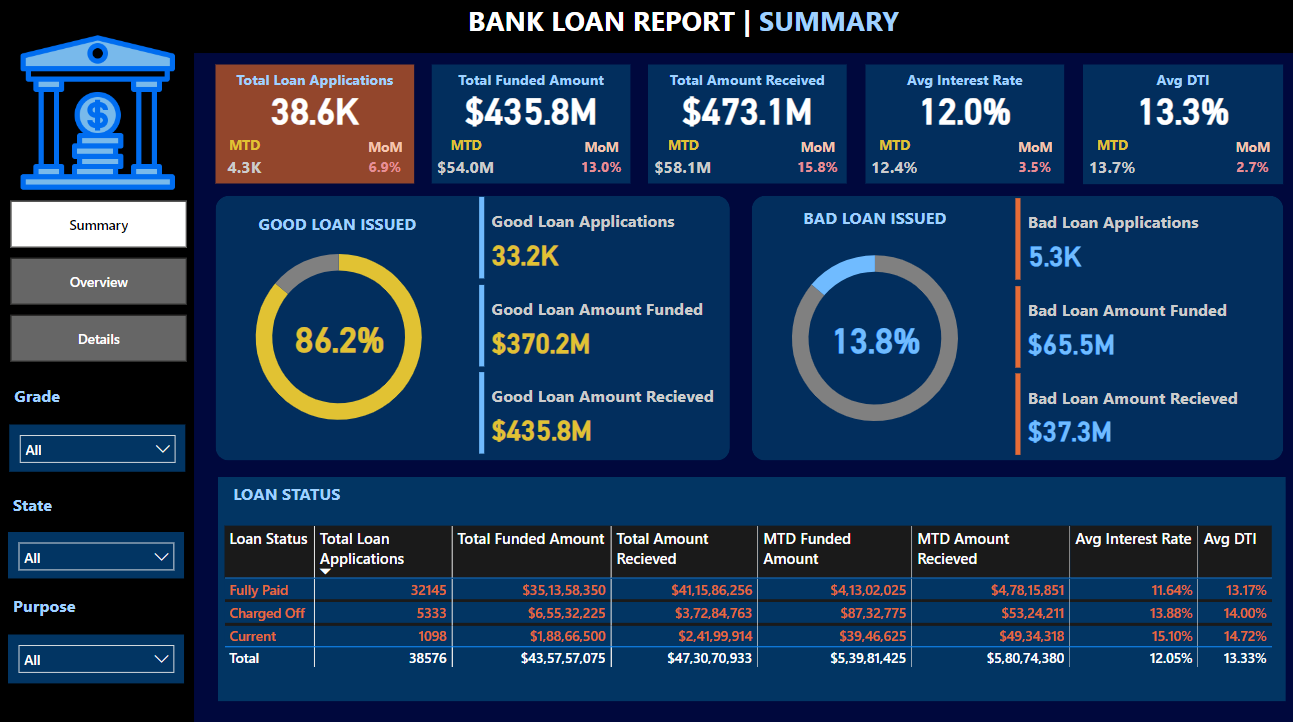

The dashboard page shown, as its layout file describes it:
{"tool":"powerbi","page":{"name":"Summary","canvas":[1280,720],"ordinal":0},"visuals":[{"type":"shape","box":[1.2,54,191.4,666.3],"z":0},{"type":"shape","box":[1065.4,66,196.4,117.5],"z":0,"group":"g6"},{"type":"shape","box":[214,66.1,195,117],"z":0,"group":"g1"},{"type":"shape","box":[426.3,66.1,195,117],"z":0,"group":"g2"},{"type":"shape","box":[638.5,66.1,195,117],"z":0,"group":"g3"},{"type":"shape","box":[851.8,66.1,195,117],"z":0,"group":"g4"},{"type":"card","fields":{"Values":["financial_loan.Total_Loan_Applications"]},"box":[214,82.1,195,55],"z":1000,"group":"g1"},{"type":"card","fields":{"Values":["financial_loan.Total Funded Amount"]},"box":[426.3,82.1,195,55],"z":1000,"group":"g2"},{"type":"card","fields":{"Values":["financial_loan.Total Amount Recieved"]},"box":[638.5,82.1,195,55],"z":1000,"group":"g3"},{"type":"card","fields":{"Values":["financial_loan.Avg Interest Rate"]},"box":[851.8,82.1,195,55],"z":1000,"group":"g4"},{"type":"card","fields":{"Values":["financial_loan.Avg DTI"]},"box":[1065.4,82.1,196.4,55.2],"z":1000,"group":"g6"},{"type":"donutChart","fields":{"Category":["financial_loan.Good Vs Bad Loan"],"Y":["financial_loan.Total_Loan_Applications"]},"box":[213.7,227.4,242.2,213.7],"z":1000,"group":"g5"},{"type":"donutChart","fields":{"Category":["financial_loan.Good Vs Bad Loan"],"Y":["financial_loan.Total_Loan_Applications"]},"box":[740.4,228.4,242.2,213.7],"z":1000,"group":"g8"},{"type":"shape","box":[216,471.2,1047.9,219.6],"z":1000},{"type":"textbox","box":[1065.4,66,196.4,32.1],"z":2000,"group":"g6"},{"type":"textbox","box":[214,66.1,195,32],"z":2000,"group":"g1"},{"type":"textbox","box":[426.3,66.1,195,32],"z":2000,"group":"g2"},{"type":"textbox","box":[638.5,66.1,195,32],"z":2000,"group":"g3"},{"type":"textbox","box":[851.8,66.1,195,32],"z":2000,"group":"g4"},{"type":"shape","box":[213.7,195,505.1,259.9],"z":2000},{"type":"shape","box":[0,0,1280,55],"z":3000},{"type":"card","title":"MTD","fields":{"Values":["financial_loan.MTD_Total_Loan_Applications"]},"box":[214,136.1,57,47],"z":3000,"group":"g1"},{"type":"card","title":"MTD","fields":{"Values":["financial_loan.MTD_Funded_Amount"]},"box":[426.3,136.1,67,47],"z":3000,"group":"g2"},{"type":"card","title":"MTD","fields":{"Values":["financial_loan.MTD_Amount_Recieved"]},"box":[638.5,136.1,69,47],"z":3000,"group":"g3"},{"type":"card","title":"MTD","fields":{"Values":["financial_loan.MTD Avg Rate"]},"box":[851.8,136.1,57,47],"z":3000,"group":"g4"},{"type":"card","title":"MTD","fields":{"Values":["financial_loan.MTD Avg DTI"]},"box":[1065.4,136.3,57.4,47.2],"z":3000,"group":"g6"},{"type":"card","fields":{"Values":["financial_loan.Good Loan %"]},"box":[270.3,307,131.1,54.8],"z":3000,"group":"g5"},{"type":"card","fields":{"Values":["financial_loan.Bad Loan %"]},"box":[797,308,131.1,54.8],"z":3000,"group":"g8"},{"type":"textbox","box":[456,0,568,55],"z":4000},{"type":"card","title":"MoM","fields":{"Values":["financial_loan.MoM_Loan_Applications"]},"box":[351,137.1,58,46],"z":4000,"group":"g1"},{"type":"card","title":"MoM","fields":{"Values":["financial_loan.MoM_Funded_Amount"]},"box":[563.3,137.1,58,46],"z":4000,"group":"g2"},{"type":"card","title":"MoM","fields":{"Values":["financial_loan.MoM Amount Recieved"]},"box":[775.5,137.1,58,46],"z":4000,"group":"g3"},{"type":"card","title":"MoM","fields":{"Values":["financial_loan.MoM Avg Rate"]},"box":[988.8,137.1,58,46],"z":4000,"group":"g4"},{"type":"card","title":"MoM","fields":{"Values":["financial_loan.MoM Avg DTI"]},"box":[1203.4,137.3,58.4,46.2],"z":4000,"group":"g6"},{"type":"group","id":"g1","title":"Group 1","box":[214,66.1,194.5,116.7],"z":5000},{"type":"textbox","box":[760.7,200.4,200,50.3],"z":5000,"group":"g8"},{"type":"textbox","box":[235,206.7,197.5,38],"z":5000,"group":"g5"},{"type":"group","id":"g2","title":"Group 1","box":[426.3,66.1,194.5,116.7],"z":6000},{"type":"textbox","box":[10.8,375.5,173,42.9],"z":6000,"group":"g11"},{"type":"textbox","box":[9.8,482.2,86.5,34.7],"z":6000,"group":"g9"},{"type":"textbox","box":[9.8,581.6,86.5,36.1],"z":6000,"group":"g10"},{"type":"textbox","box":[216,471.2,135,55.2],"z":7000},{"type":"group","id":"g3","title":"Group 1","box":[638.5,66.1,195.5,116.7],"z":8000},{"type":"group","id":"g4","title":"Group 1","box":[851.8,66.1,195.5,116.7],"z":9000},{"type":"shape","box":[740.4,195,521.8,259.9],"z":10000},{"type":"group","id":"g5","title":"Group 3","box":[213.7,192,521.8,262.9],"z":10001,"group":"g7"},{"type":"group","id":"g6","title":"Group 1","box":[1065.4,66,196.9,117.2],"z":11000},{"type":"group","id":"g7","title":"Group 2","box":[213.7,192,521.8,262.9],"z":12000},{"type":"cardVisual","fields":{"Data":["financial_loan.Good Loan Applications","financial_loan.Good Loan Amount Funded","financial_loan.Good Loan Amount Recieved"]},"box":[467.7,192,267.8,262.9],"z":13000,"group":"g5"},{"type":"group","id":"g8","title":"Group 2","box":[740.4,193,521.8,262.9],"z":13000},{"type":"cardVisual","fields":{"Data":["financial_loan.Bad Loan Applications","financial_loan.Bad Loan Amount Funded","financial_loan.Bad Loan Amount Recieved"]},"box":[994.4,193,267.8,262.9],"z":13000,"group":"g8"},{"type":"tableEx","fields":{"Values":["financial_loan.loan_status","financial_loan.Total_Loan_Applications","financial_loan.Total Funded Amount","financial_loan.Total Amount Recieved","financial_loan.MTD_Funded_Amount","financial_loan.MTD_Amount_Recieved","financial_loan.Avg Interest Rate","financial_loan.Avg DTI"]},"box":[216,514.1,1045.4,159.5],"z":14000},{"type":"group","id":"g9","title":"Group 4","box":[9.8,482.2,173,88.3],"z":15000},{"type":"slicer","fields":{"Values":["financial_loan.grade"]},"box":[11.1,419.3,173,46.1],"z":16000,"group":"g11"},{"type":"slicer","fields":{"Values":["financial_loan.address_state"]},"box":[9.8,524.7,173,45.8],"z":16000,"group":"g9"},{"type":"group","id":"g10","title":"Group 4","box":[9.8,581.6,173,92],"z":16000},{"type":"slicer","fields":{"Values":["financial_loan.purpose"]},"box":[9.8,625.9,173,47.8],"z":16000,"group":"g10"},{"type":"group","id":"g11","title":"Group 6","box":[10.8,375.5,173.3,90],"z":17000},{"type":"pageNavigator","box":[12.3,200,173,159.5],"z":18000},{"type":"image","box":[12.3,27,171.8,173],"z":18001}]}

Visuals, with their boxes in screenshot pixels (x1, y1, x2, y2), scaled from the page's 1280x720 canvas onto the 1293x722 screenshot:
shape: 1,54,195,721
shape: 1076,66,1275,184
shape: 216,66,413,184
shape: 431,66,628,184
shape: 645,66,842,184
shape: 860,66,1057,184
card - financial_loan.Total_Loan_Applications: 216,82,413,137
card - financial_loan.Total Funded Amount: 431,82,628,137
card - financial_loan.Total Amount Recieved: 645,82,842,137
card - financial_loan.Avg Interest Rate: 860,82,1057,137
card - financial_loan.Avg DTI: 1076,82,1275,138
donutChart - financial_loan.Good Vs Bad Loan x financial_loan.Total_Loan_Applications: 216,228,461,442
donutChart - financial_loan.Good Vs Bad Loan x financial_loan.Total_Loan_Applications: 748,229,993,443
shape: 218,473,1277,693
textbox: 1076,66,1275,98
textbox: 216,66,413,98
textbox: 431,66,628,98
textbox: 645,66,842,98
textbox: 860,66,1057,98
shape: 216,196,726,456
shape: 0,0,1292,55
"MTD" card: 216,136,274,184
"MTD" card: 431,136,498,184
"MTD" card: 645,136,715,184
"MTD" card: 860,136,918,184
"MTD" card: 1076,137,1134,184
card - financial_loan.Good Loan %: 273,308,405,363
card - financial_loan.Bad Loan %: 805,309,938,364
textbox: 461,0,1034,55
"MoM" card: 355,137,413,184
"MoM" card: 569,137,628,184
"MoM" card: 783,137,842,184
"MoM" card: 999,137,1057,184
"MoM" card: 1216,138,1275,184
"Group 1" group: 216,66,413,183
textbox: 768,201,970,251
textbox: 237,207,437,245
"Group 1" group: 431,66,627,183
textbox: 11,377,186,420
textbox: 10,484,97,518
textbox: 10,583,97,619
textbox: 218,473,355,528
"Group 1" group: 645,66,842,183
"Group 1" group: 860,66,1058,183
shape: 748,196,1275,456
"Group 3" group: 216,193,743,456
"Group 1" group: 1076,66,1275,184
"Group 2" group: 216,193,743,456
cardVisual - financial_loan.Good Loan Applications x financial_loan.Good Loan Amount Funded: 472,193,743,456
"Group 2" group: 748,194,1275,457
cardVisual - financial_loan.Bad Loan Applications x financial_loan.Bad Loan Amount Funded: 1004,194,1275,457
tableEx - financial_loan.loan_status x financial_loan.Total_Loan_Applications: 218,516,1274,675
"Group 4" group: 10,484,185,572
slicer - financial_loan.grade: 11,420,186,467
slicer - financial_loan.address_state: 10,526,185,572
"Group 4" group: 10,583,185,675
slicer - financial_loan.purpose: 10,628,185,676
"Group 6" group: 11,377,186,467
pageNavigator: 12,201,187,360
image: 12,27,186,201
